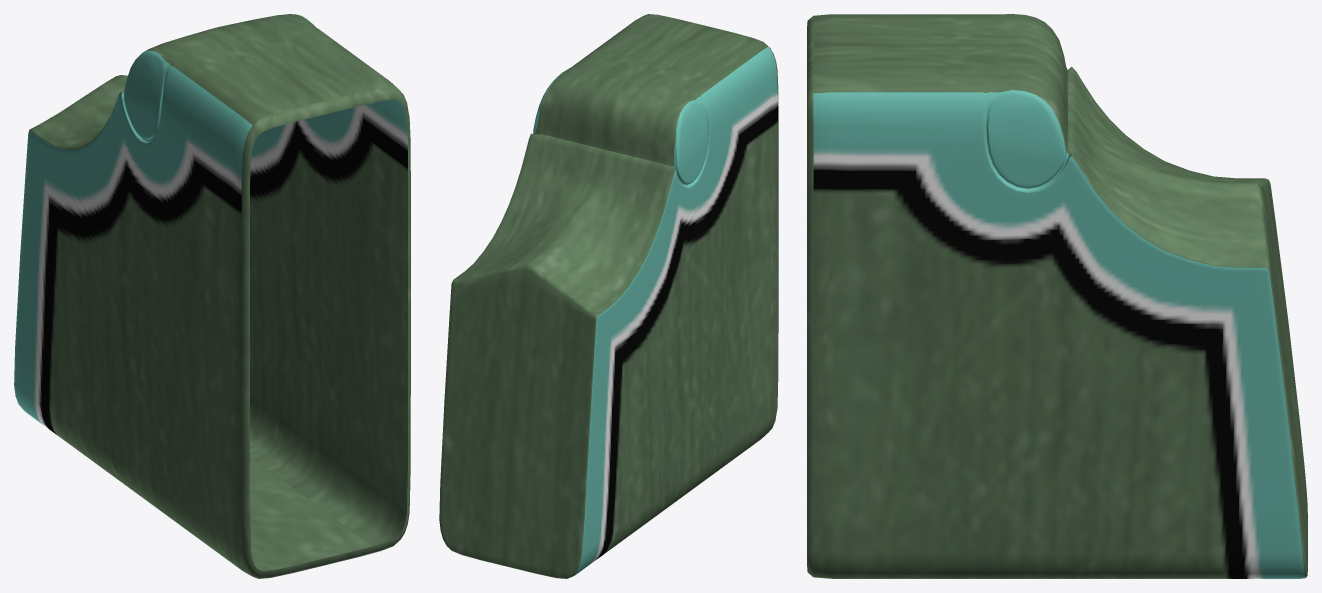
Rendered from SM_Beam03BX.fbx.
3 renders of one model, left to right at view 1: azimuth 30°, elevation 25°; view 2: azimuth 150°, elevation 25°; view 3: azimuth 270°, elevation 25°, orthographic. The views are drawn at different scales.
Visible parts, largest first — view 1: SM_Beam03BX; view 2: SM_Beam03BX; view 3: SM_Beam03BX.
Boxes of the visible parts, x1=… form: SM_Beam03BX: x1=14, y1=14, x2=410, y2=578; SM_Beam03BX: x1=439, y1=14, x2=778, y2=578; SM_Beam03BX: x1=807, y1=14, x2=1307, y2=578.
Bounding box in the file's own units: 11.8 × 28.07 × 30.92.
Materials: 1 (1 with a texture image).
